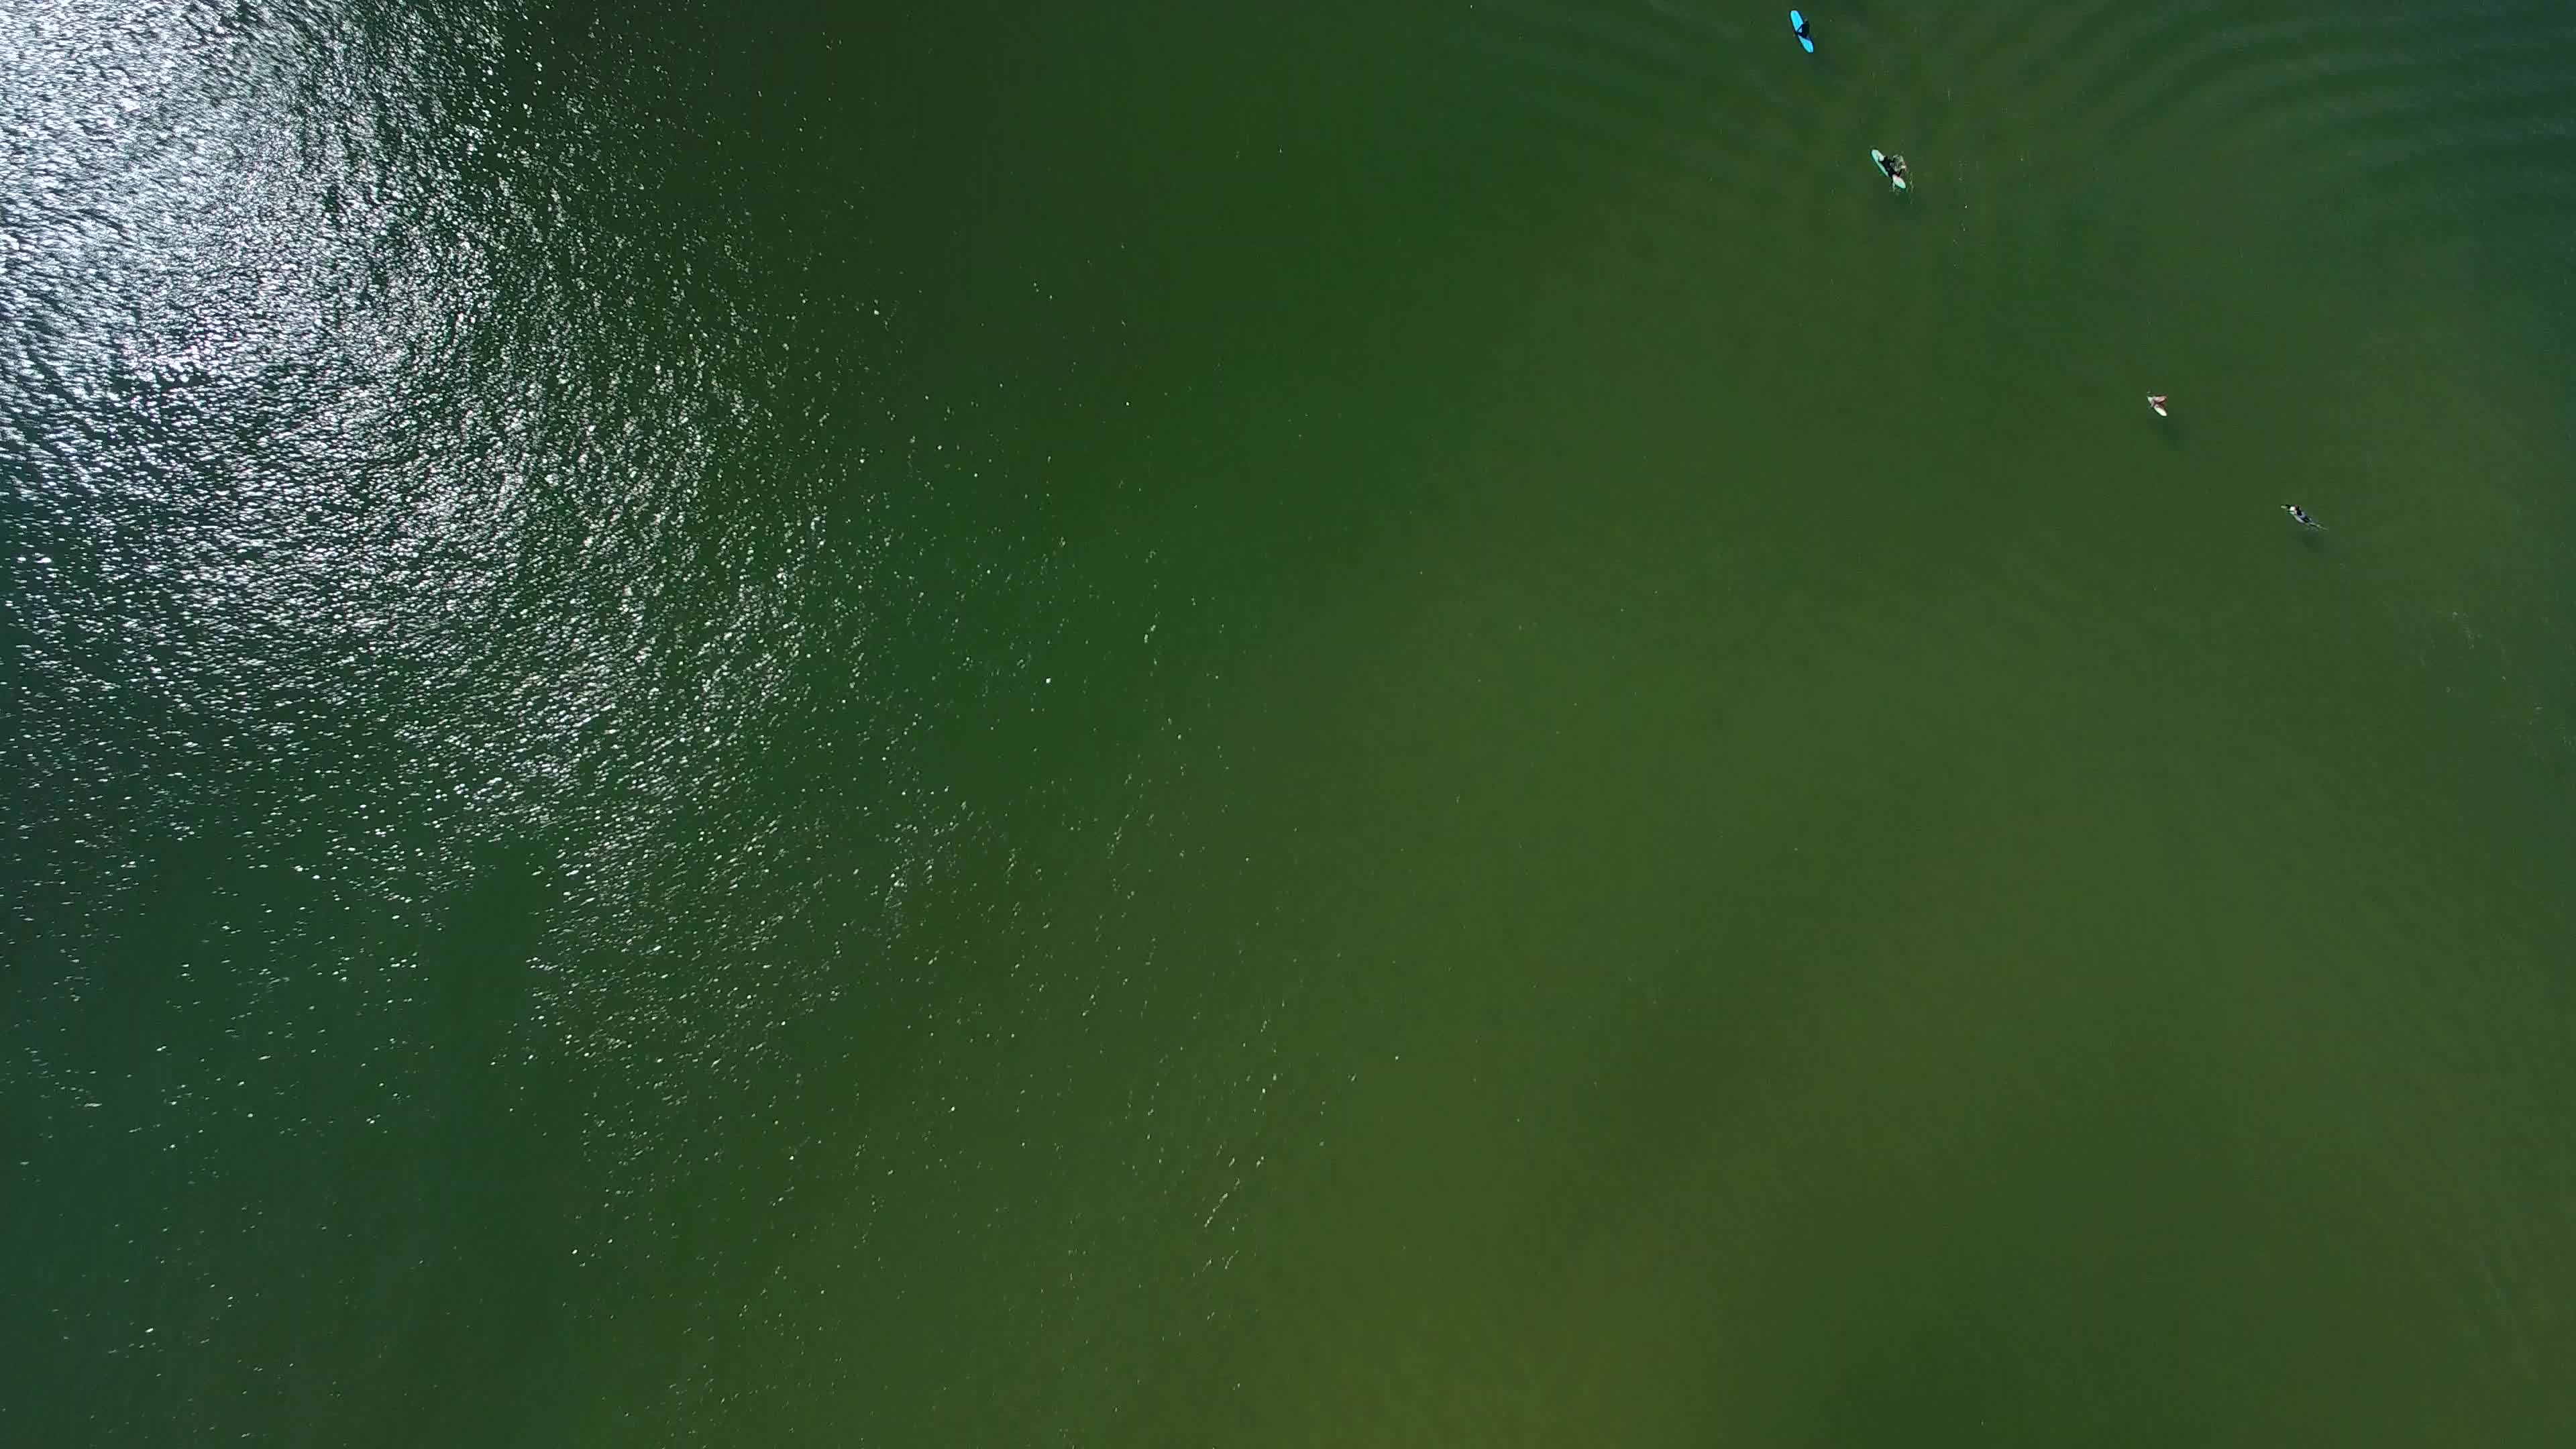surfer: (1867, 145, 1921, 205), (2279, 501, 2339, 545), (1780, 5, 1824, 62), (2135, 386, 2180, 425)
